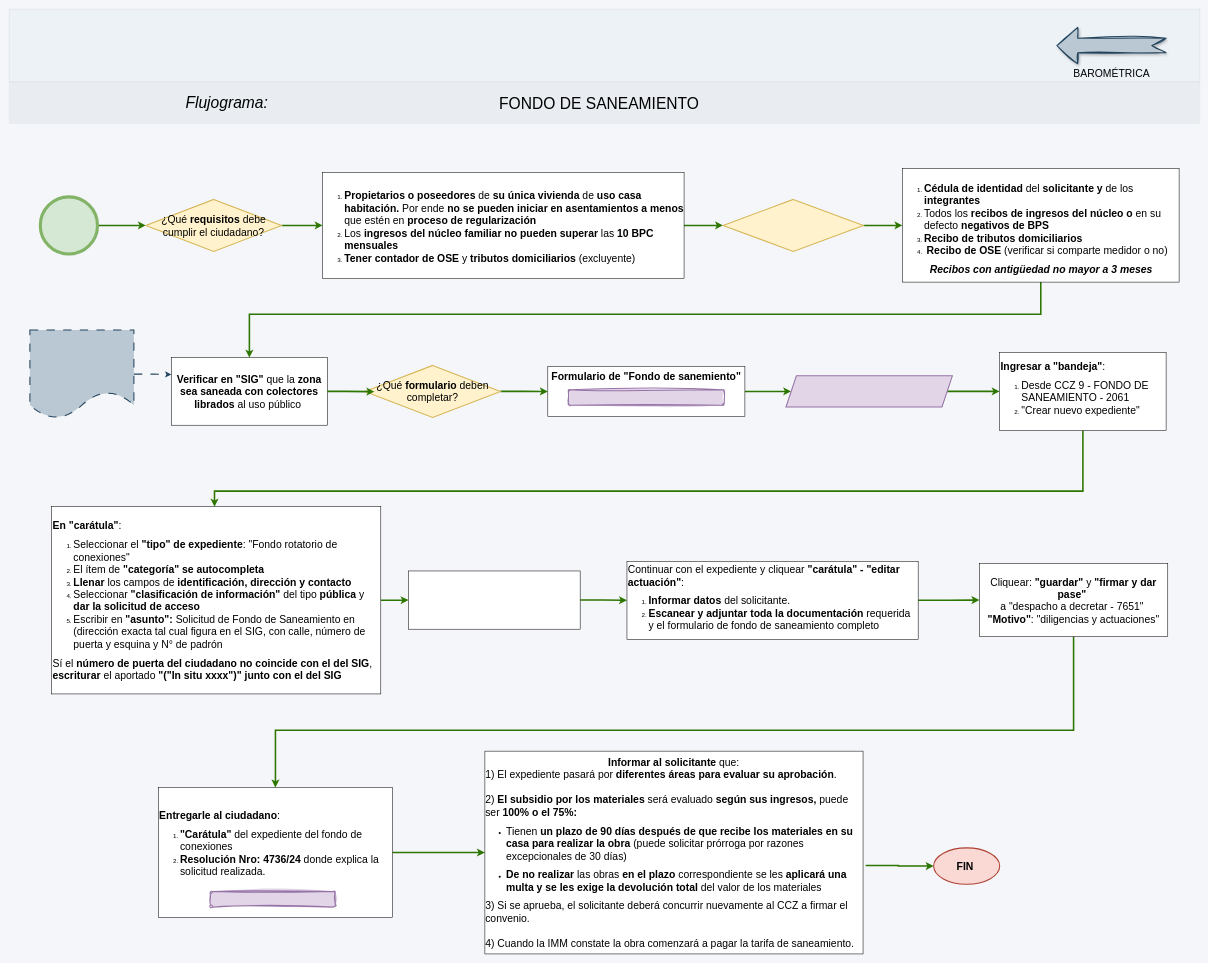
Some shapes in this 1208 by 963 pixel diagram are drawn without their labels. Each missing label, with the centre of its shape:
Cliquear "guardar" y copiar el número de expediente: the point at 494,599
INGRESAR AL SISTEMA: SEE: the point at 869,391
INICIO: the point at 68,225
LINK AL FORMULARIO: the point at 646,397
Resolución Nro. 4736/24: the point at 273,899
¿Cómo verificar que es una zona saneada? (ver procedimiento): the point at 81,374
¿Qué documentación debe presentar el ciudadano?: the point at 793,225
